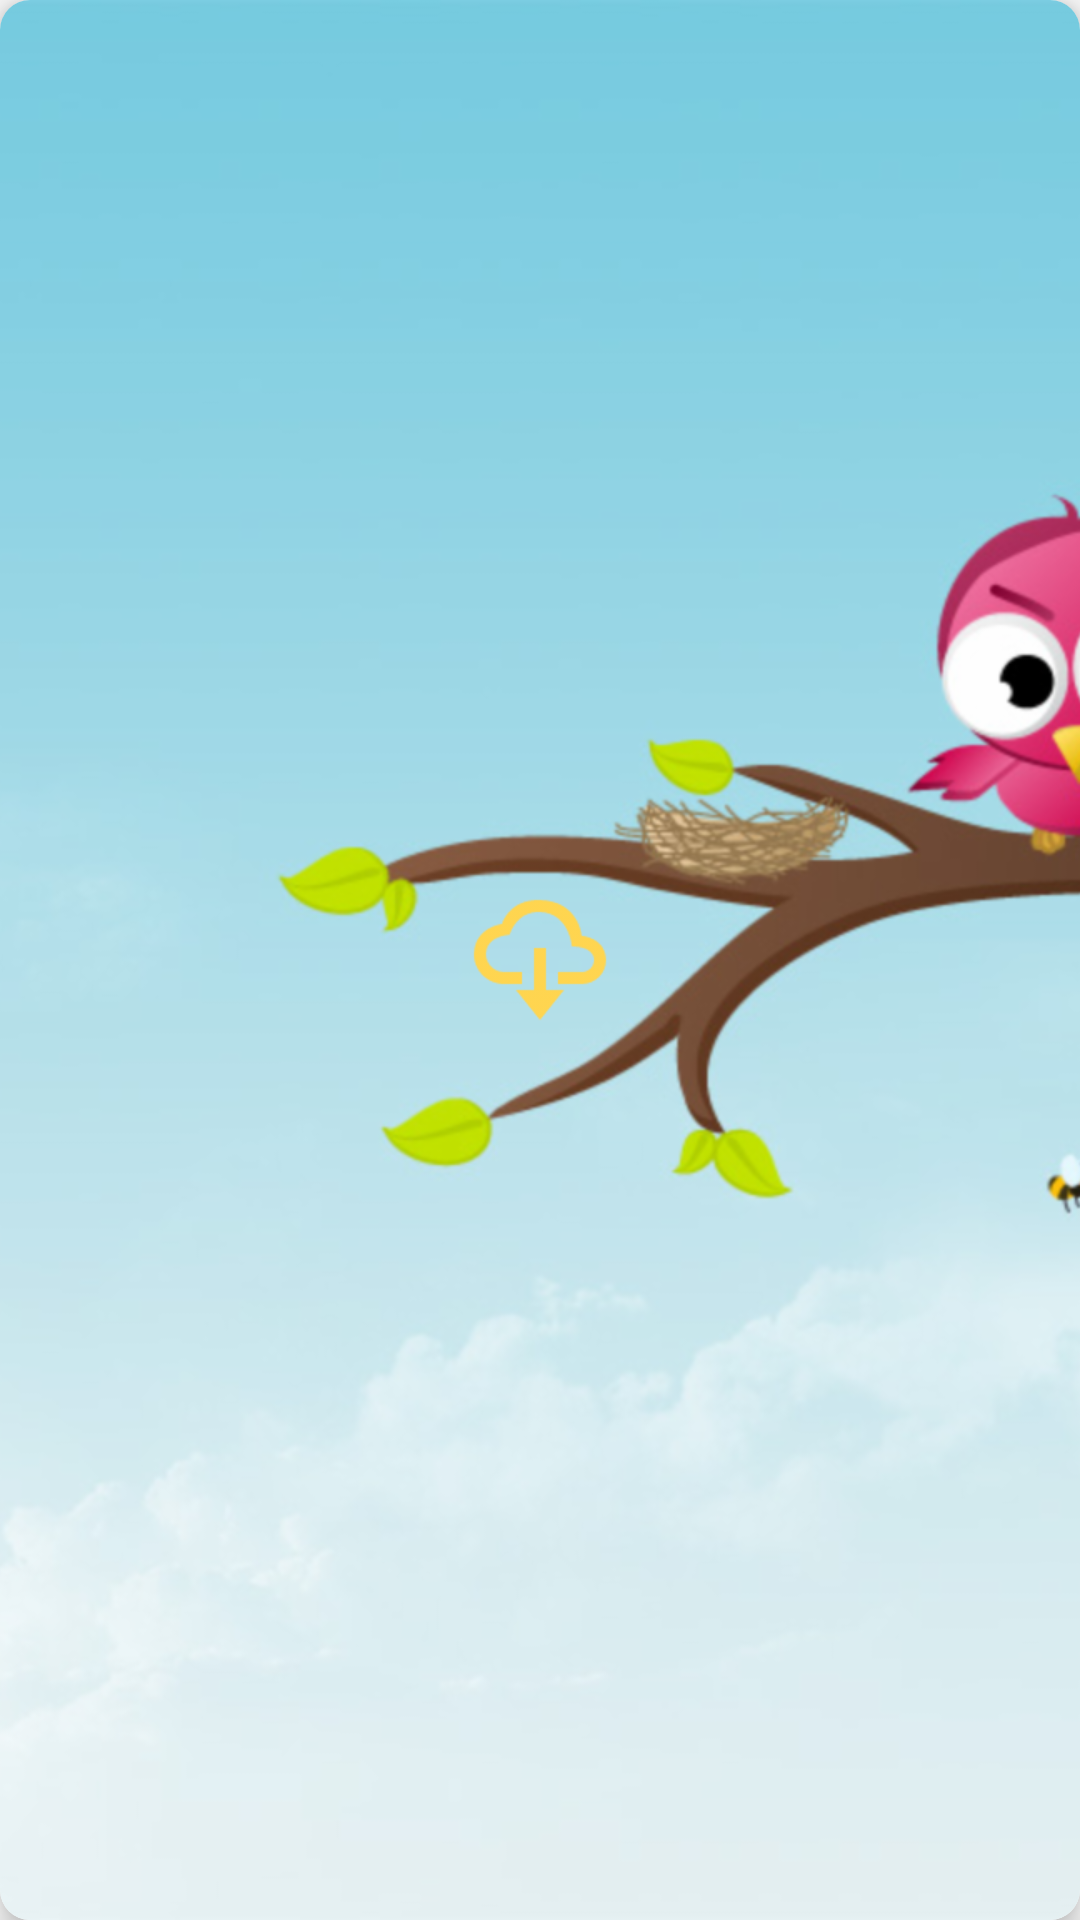

Icons on this 1080*1920 Android screen, each with the point to tap as (x,y):
download: (540,959)
